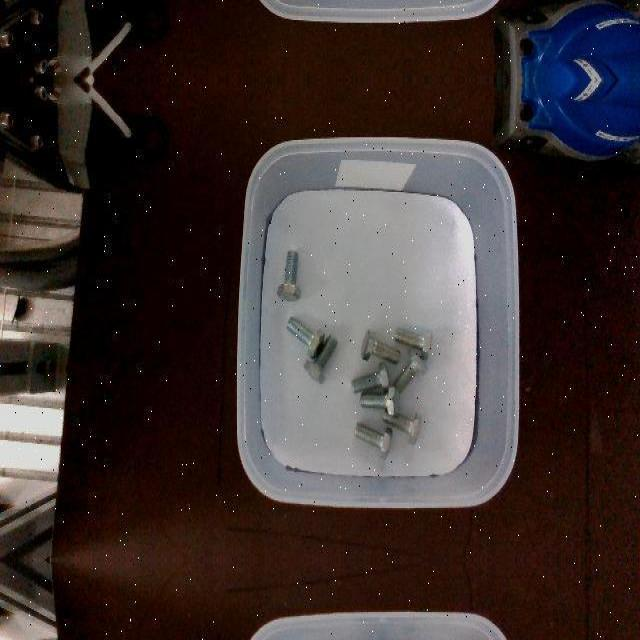screw: (303, 334, 339, 384), (392, 347, 428, 395), (287, 315, 325, 357), (361, 328, 400, 364), (354, 423, 392, 457), (277, 249, 301, 299), (395, 327, 432, 359), (352, 362, 389, 394), (360, 385, 399, 415)
